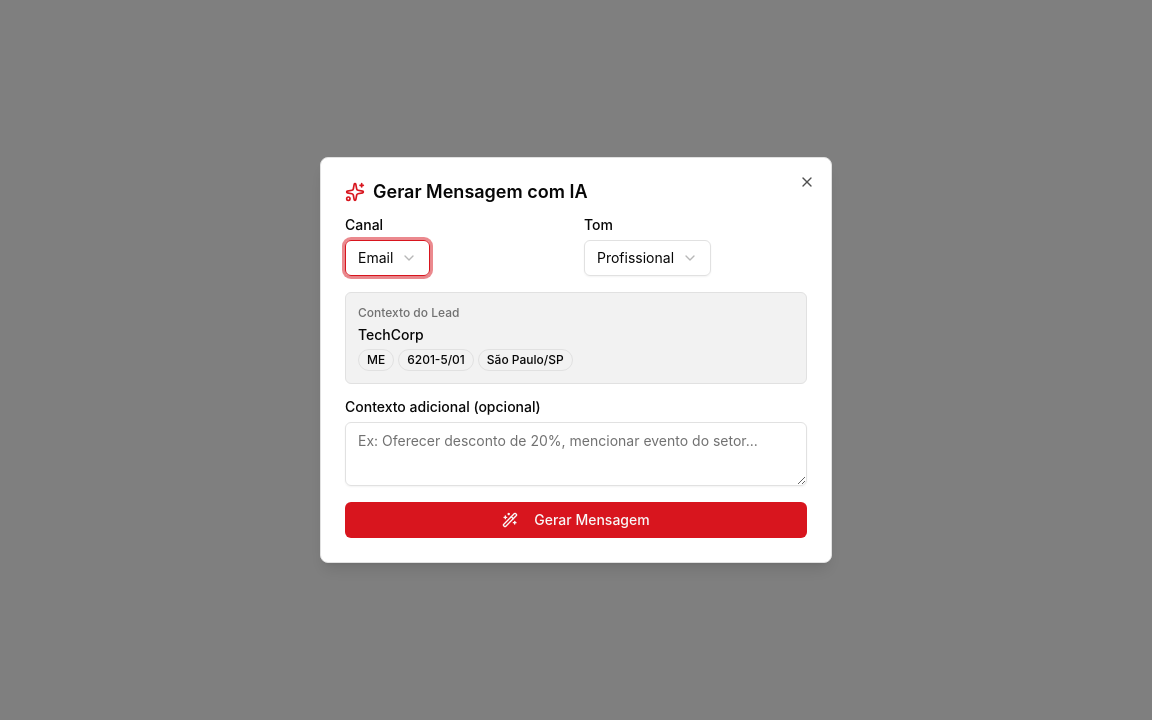
AIMessageGenerator › should show action buttons after generation
The image size is (1152, 720).
Click the button "Gerar Mensagem". click: (576, 520)
box: [345, 502, 807, 538]
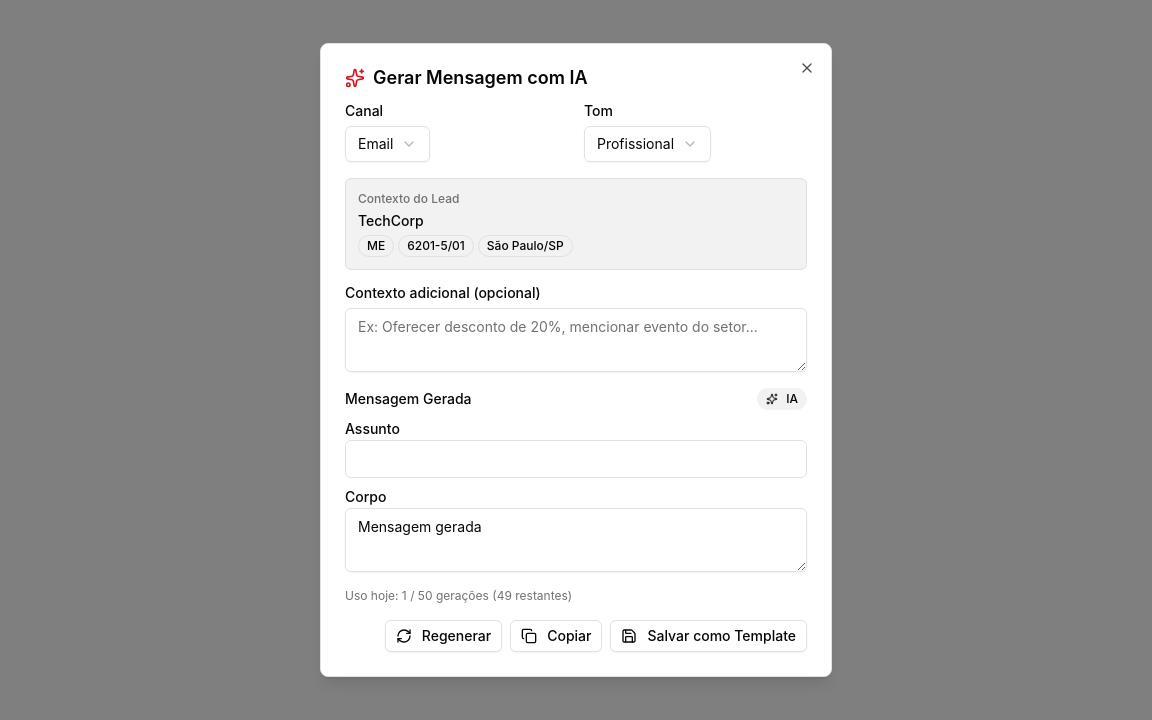
Expected: the button "Regenerar" is shown, [385, 620, 502, 652]
Expected: the button "Copiar" is shown, [510, 620, 602, 652]
Expected: the button "Salvar como Template" is shown, [610, 620, 807, 652]
